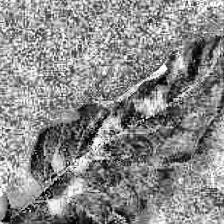leaf mold: (6, 20, 224, 224)
